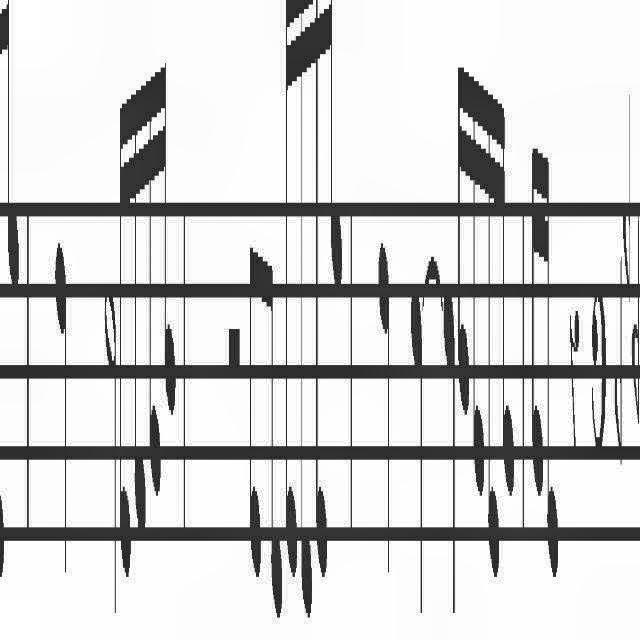Bemol: (612, 235, 624, 470), (624, 92, 636, 318), (632, 198, 640, 438)
Eighth-note: (268, 240, 284, 630), (248, 230, 264, 606)
Eighth-rest: (568, 282, 580, 486)
Half-note: (104, 274, 120, 610)
Quarter-note: (53, 200, 75, 592), (376, 209, 392, 566), (445, 266, 455, 604), (412, 286, 422, 606)
Sixteenth-note: (298, 1, 314, 632), (284, 0, 300, 590), (314, 0, 328, 612), (162, 31, 184, 416), (118, 80, 132, 624), (544, 118, 560, 588), (146, 28, 162, 490), (470, 54, 486, 514), (133, 53, 147, 554), (486, 54, 499, 590), (502, 62, 516, 516), (3, 0, 23, 302), (456, 36, 469, 436), (326, 0, 344, 288), (529, 124, 543, 488), (0, 0, 4, 595)
